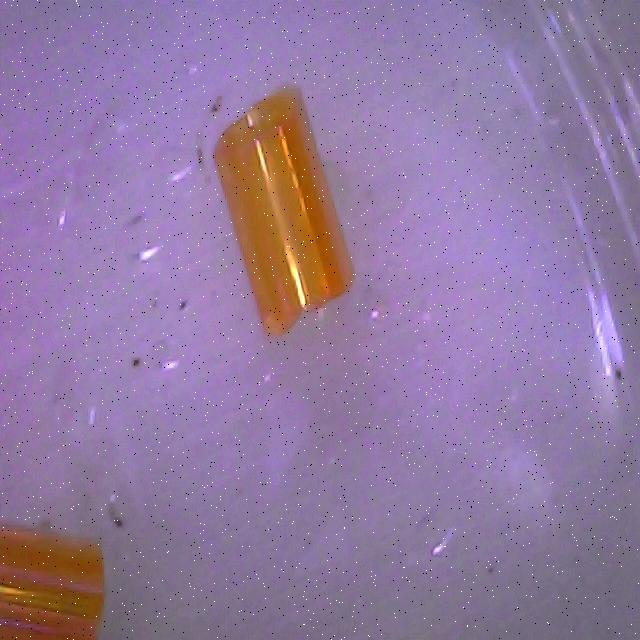fragments: (202, 85, 364, 338), (0, 528, 103, 640)
